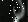person: (10, 1, 28, 22)
